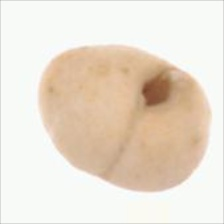L3: (137, 67, 172, 115)
L4: (38, 44, 212, 191)
